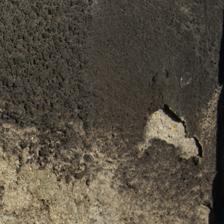Crack: (70, 51, 137, 115)
